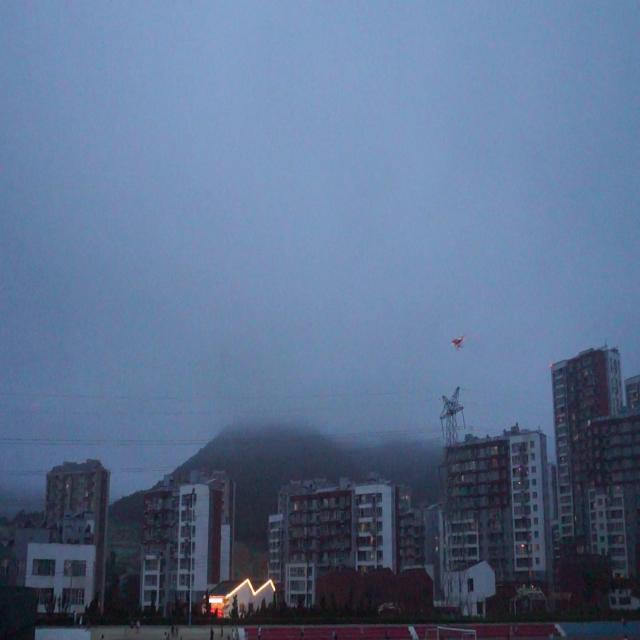drone: (449, 334, 465, 351)
